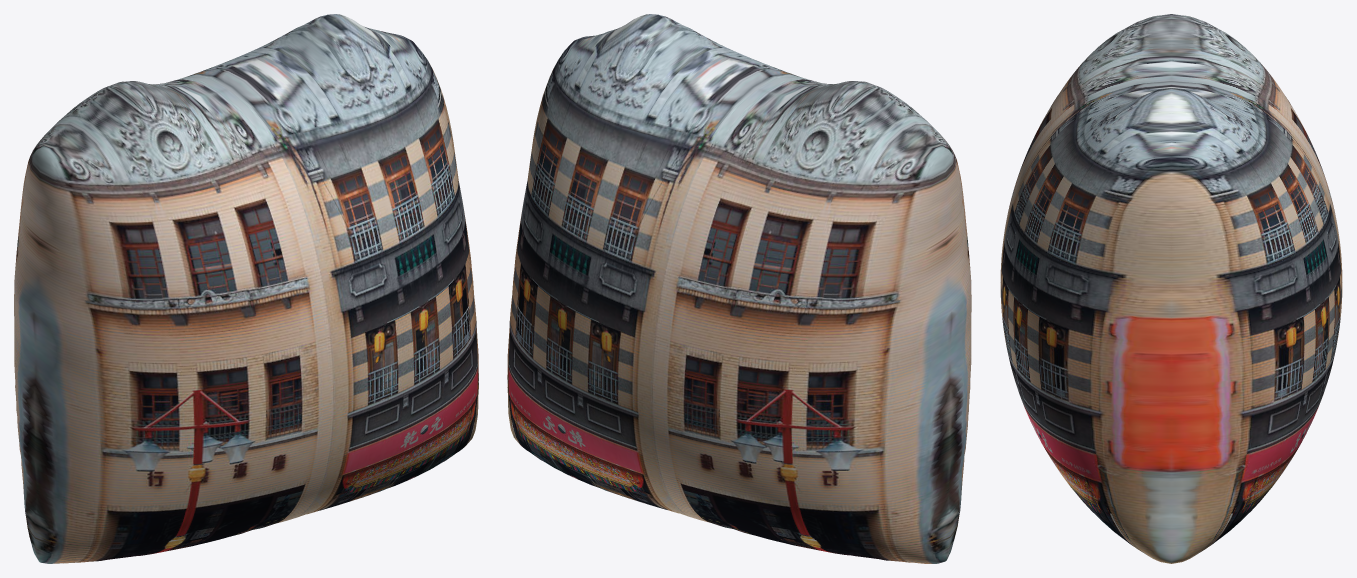
Rendered from asset.glb.
3 views of the same model, side by side, from view 1: azimuth 30°, elevation 25°; view 2: azimuth 150°, elevation 25°; view 3: azimuth 270°, elevation 25° (orthographic). The views are drawn at different scales.
Size of the model in its own units: 5.68 by 5.94 by 4.16.
1 material, 1 textured.
